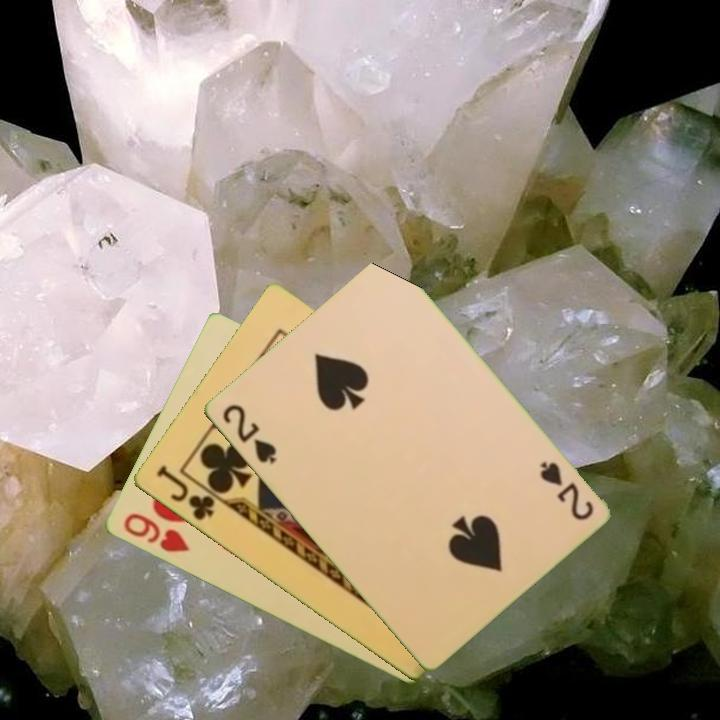2s: (218, 400, 279, 467), (535, 457, 596, 524)
9h: (119, 510, 192, 556)
Jc: (152, 461, 218, 524)
